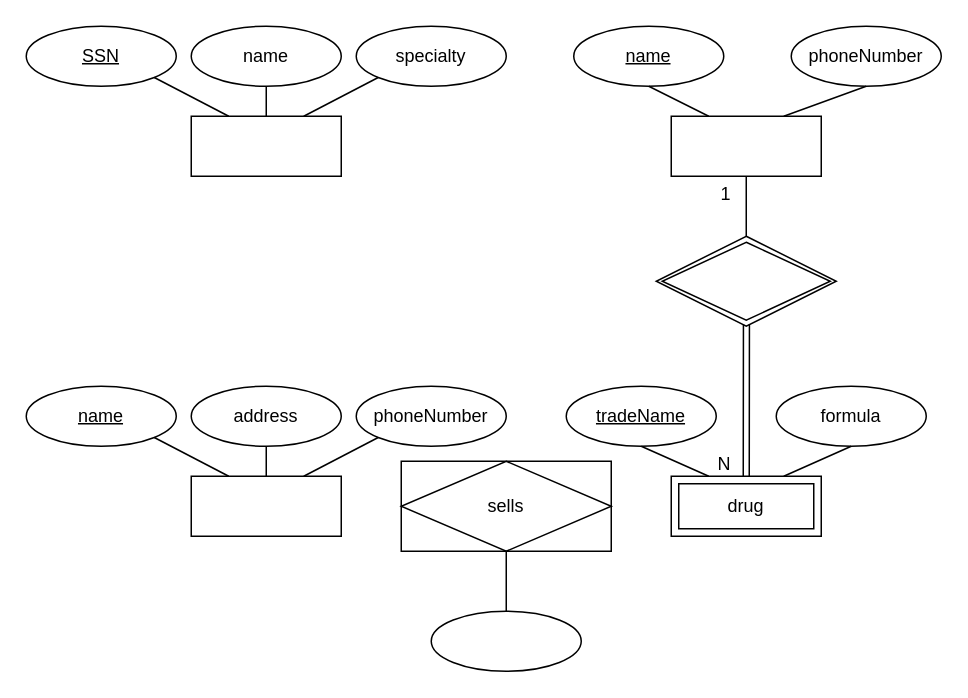
The diagram is 968 pixels wide and 698 high, and some of its shapes have lost their labels. Here are the shapes that lost their labels. From the top down, the box of each, then its label:
(190, 115, 341, 176): doctor
(670, 115, 821, 176): pharmaceutical company
(655, 235, 836, 326): manufactures
(190, 475, 341, 536): pharmacy
(430, 610, 581, 671): price
